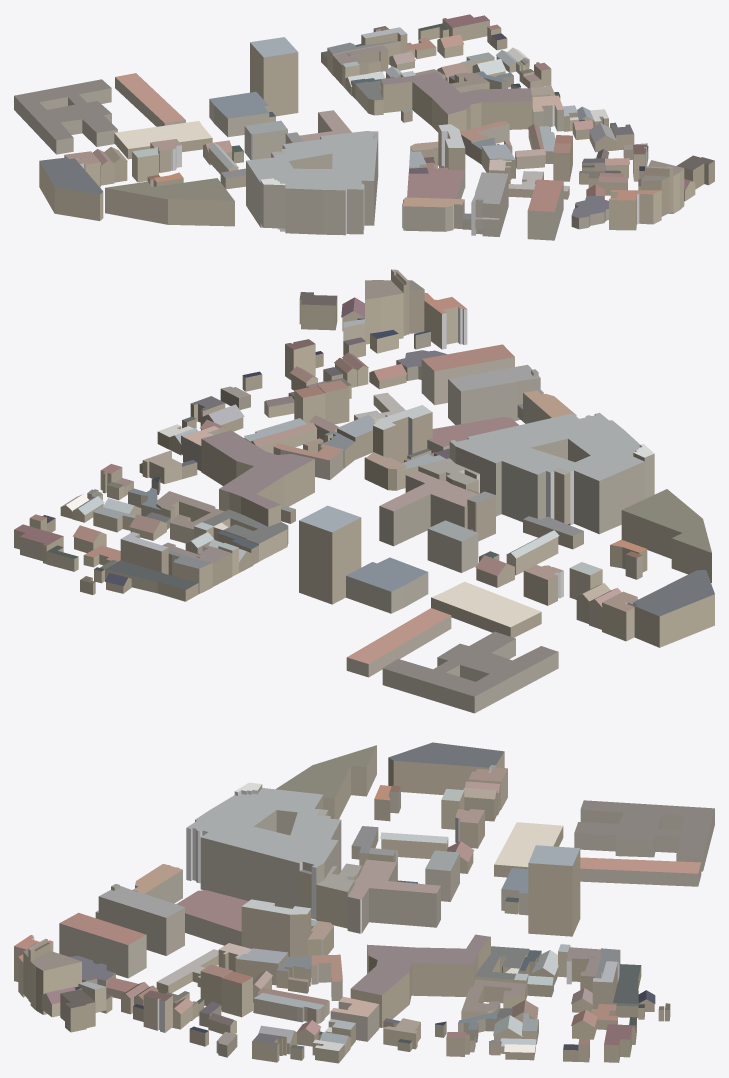
The picture shows the model from 3 angles, top to bottom: view 1: azimuth 30°, elevation 25°; view 2: azimuth 150°, elevation 25°; view 3: azimuth 270°, elevation 25°; orthographic projection. The views are drawn at different scales.
Visible parts, largest first — view 1: tuile; view 2: tuile; view 3: tuile.
Boxes of the visible parts, x1,y1,x2,y2 form: tuile: [14, 14, 714, 240]; tuile: [14, 269, 714, 713]; tuile: [14, 742, 714, 1063].
Bounding box in the file's own units: 263 × 34.2 × 269.
